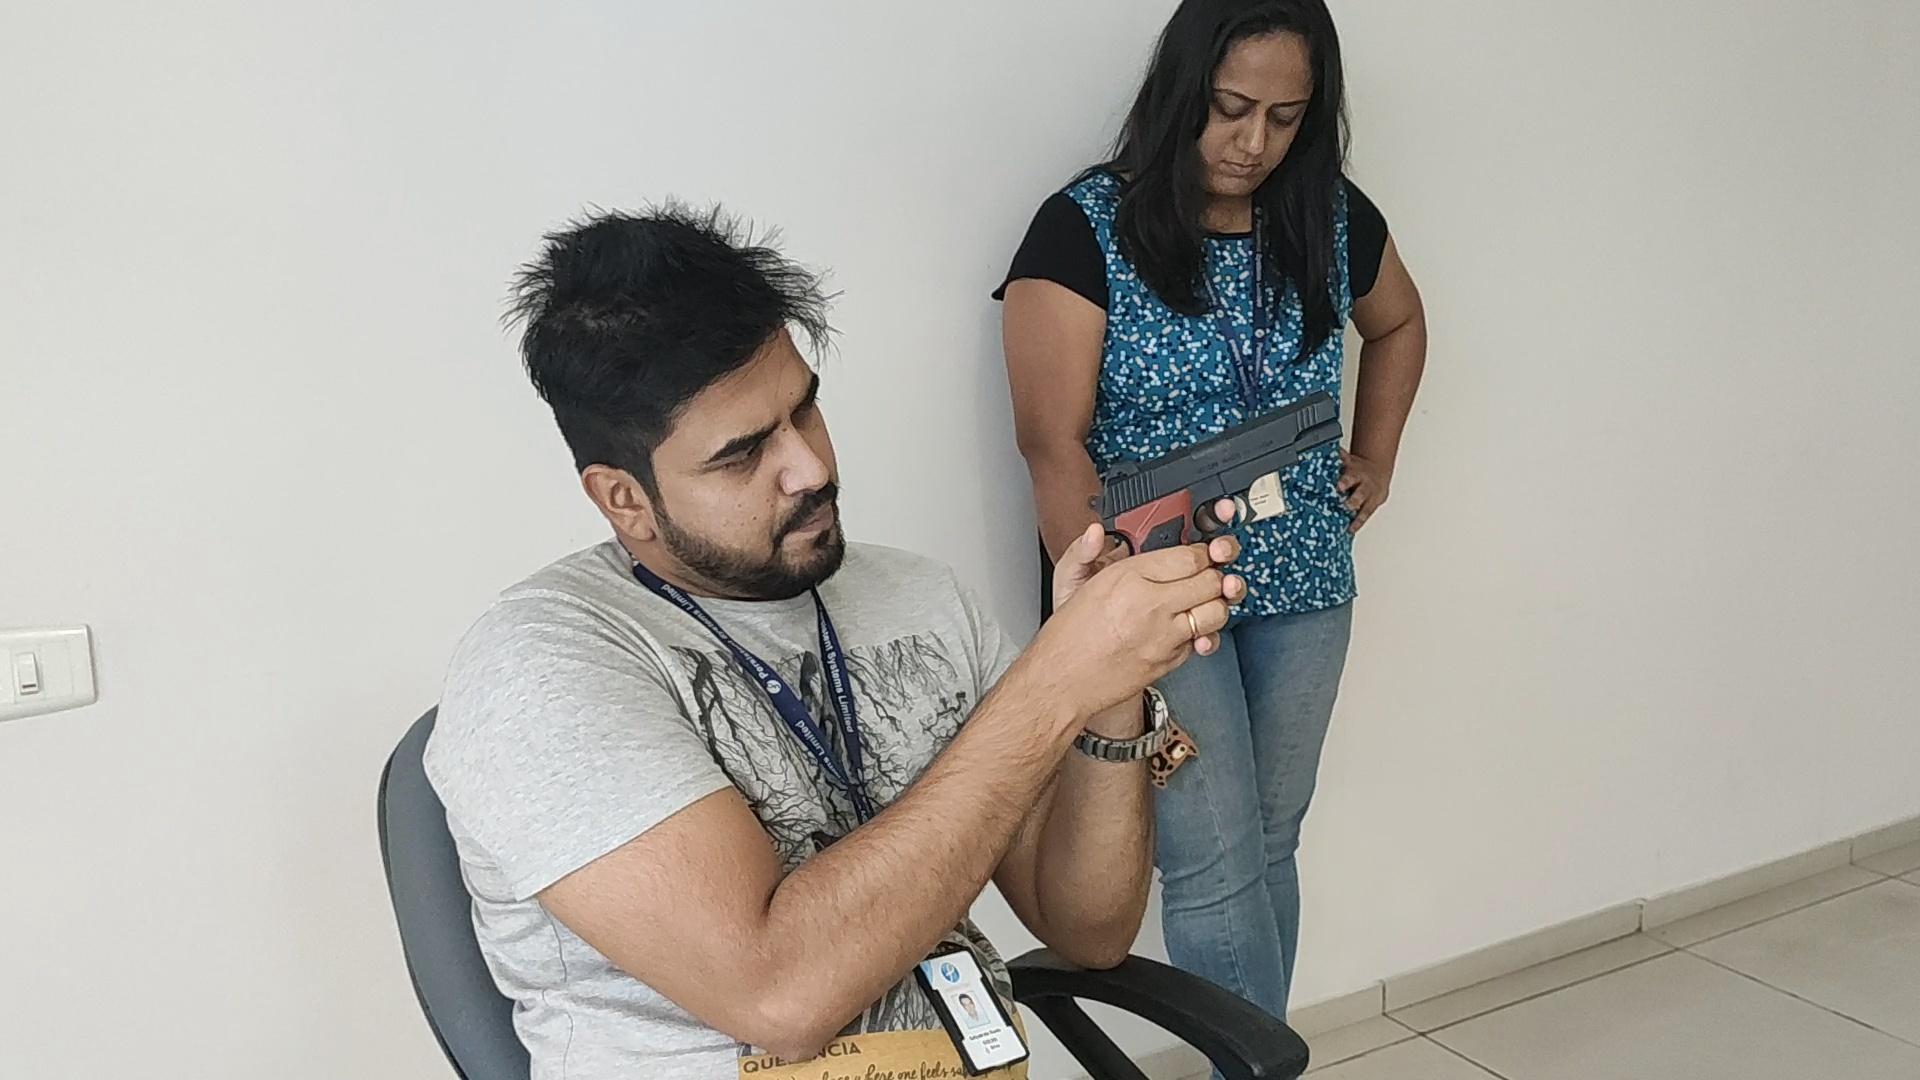gun: (1087, 392, 1342, 522)
